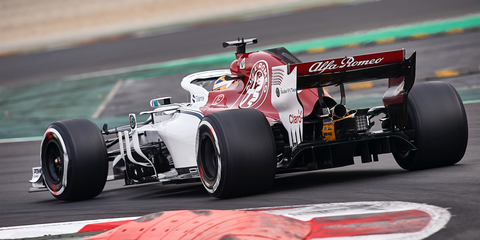F1 Car: (35, 33, 473, 205)
